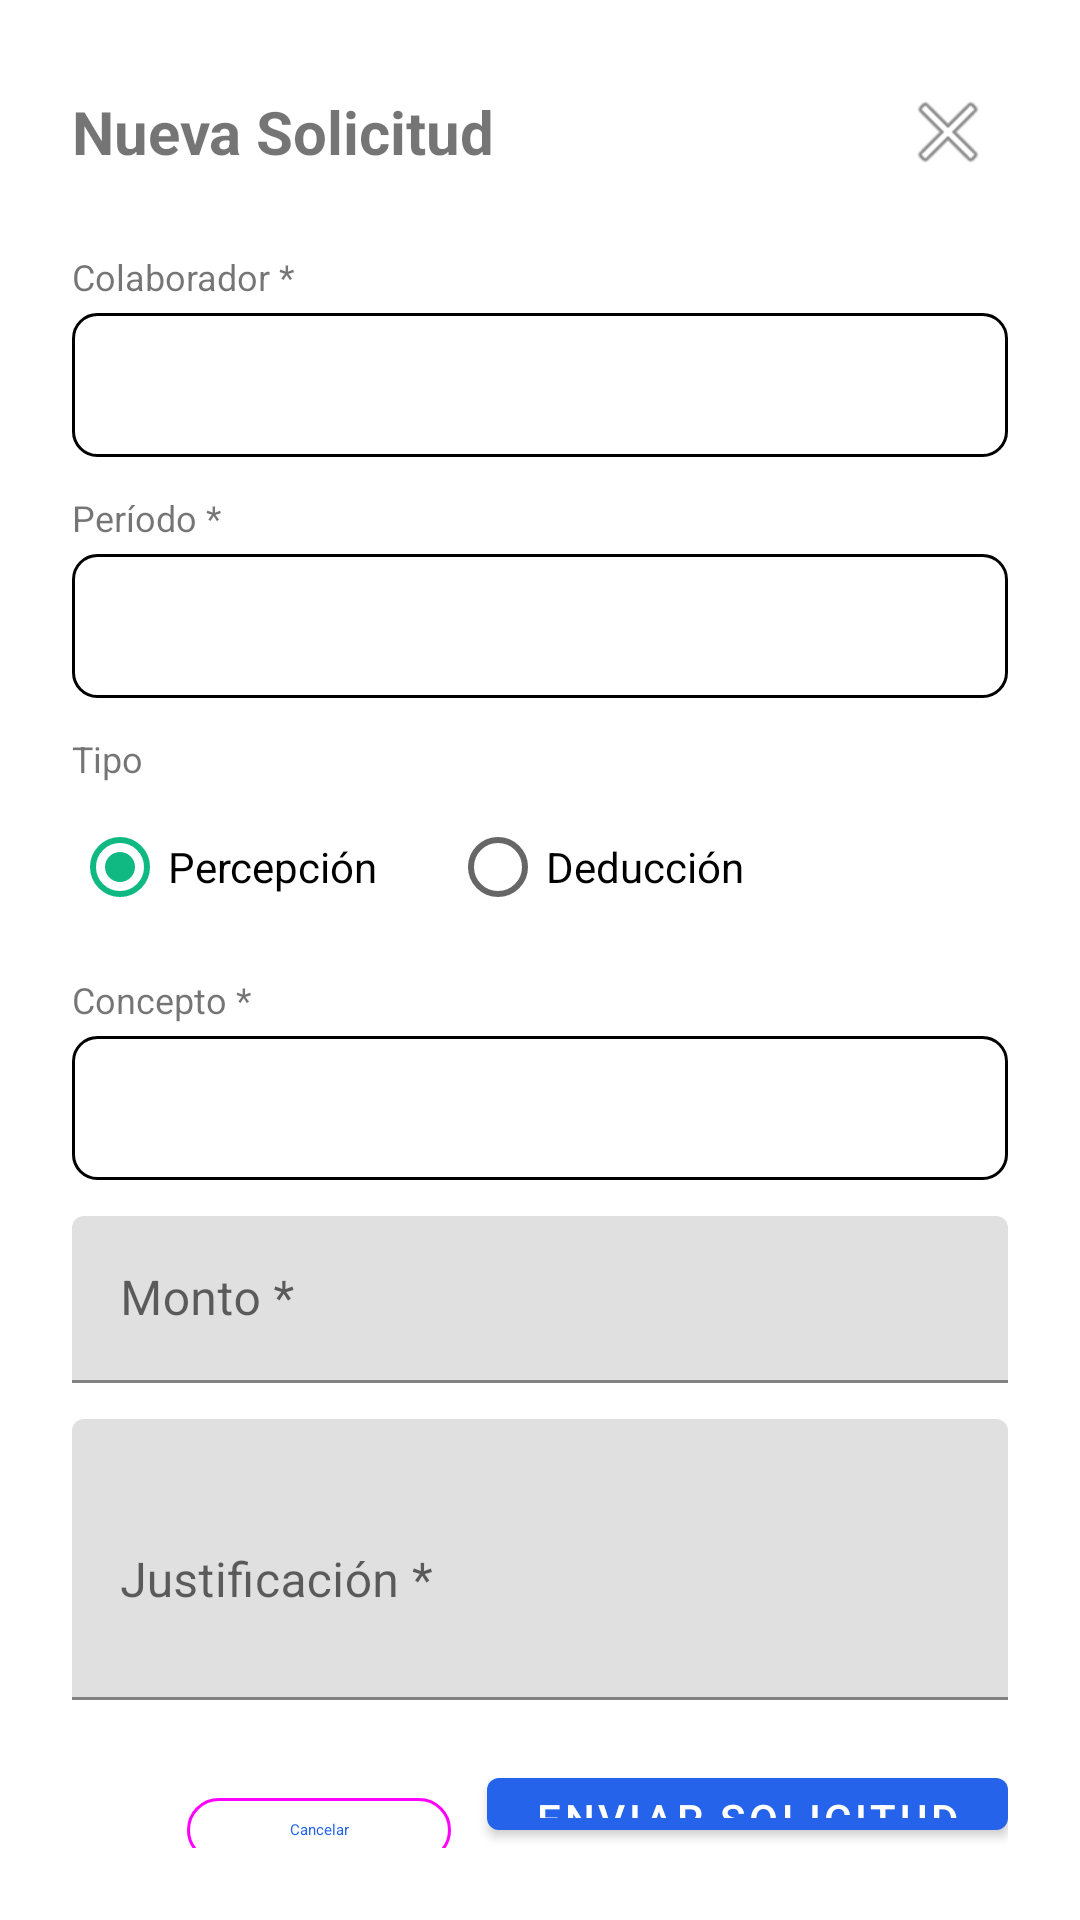

Icons on this 1080×1920 Android screen, each with its box as (x1, y1, x2, y2):
Cerrar: (918, 102, 978, 162)
